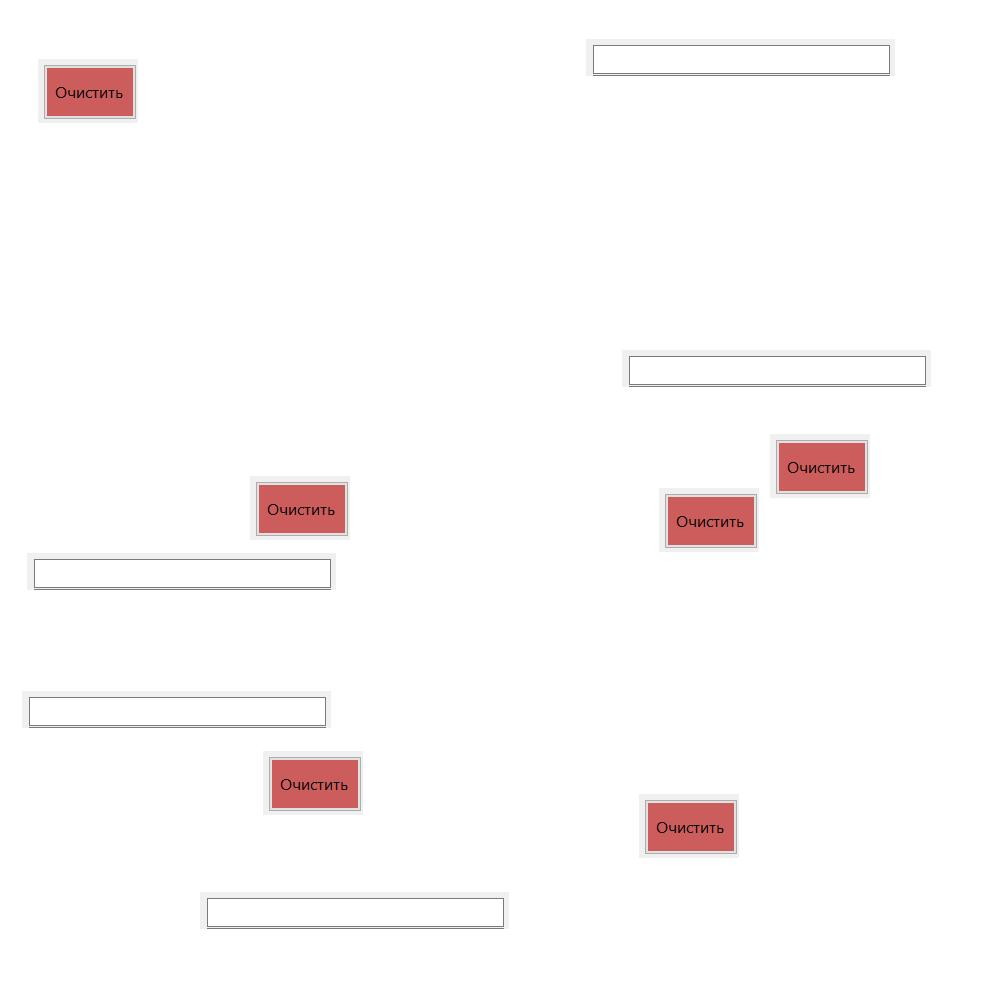Button: (659, 488, 759, 552), (263, 751, 363, 815), (770, 434, 870, 498), (639, 794, 739, 858), (250, 476, 350, 540), (38, 59, 138, 123)
EditText-: (200, 892, 509, 929), (622, 350, 931, 387), (22, 691, 331, 728), (586, 39, 895, 76), (27, 553, 336, 590)
